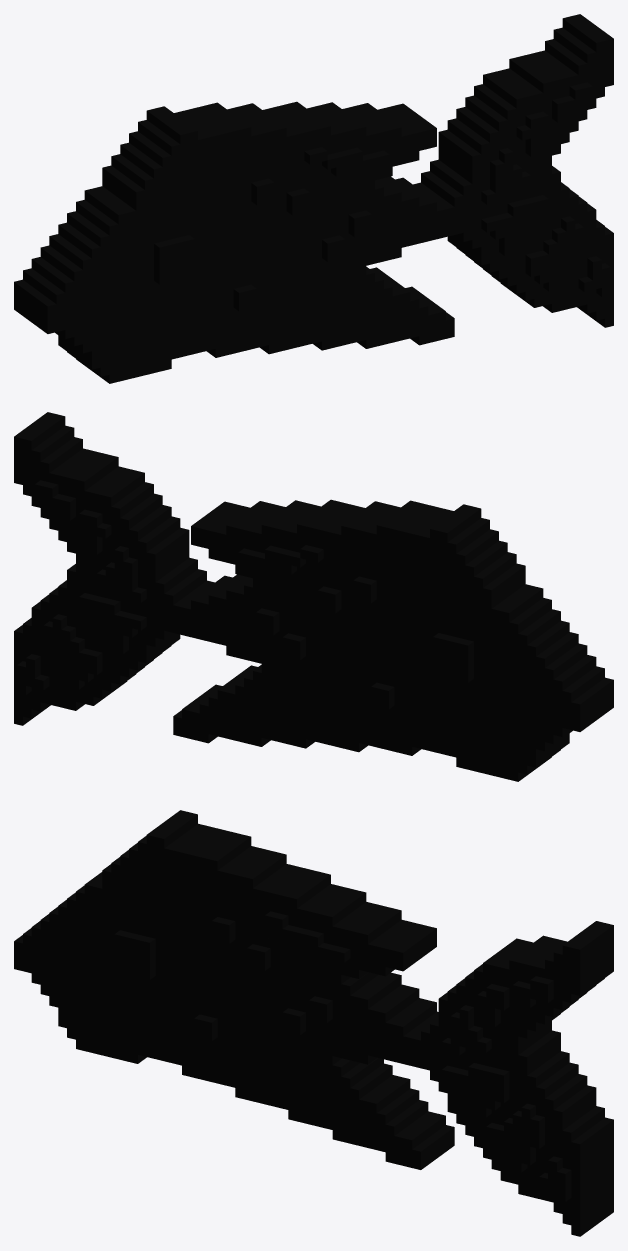
Rendered from fish.fbx.
3 renders of one model, top to bottom at view 1: azimuth 30°, elevation 25°; view 2: azimuth 150°, elevation 25°; view 3: azimuth 330°, elevation 25°, orthographic.
Visible parts, largest first — view 1: generated; view 2: generated; view 3: generated.
Boxes of the visible parts, x1,y1,x2,y2 form: generated: (14,14,613,383); generated: (14,412,613,781); generated: (14,810,613,1236).
Size of the model in its own units: 640 by 320 by 88.
